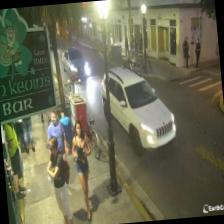person: (68, 120, 96, 220), (44, 134, 74, 224), (45, 108, 71, 200)
